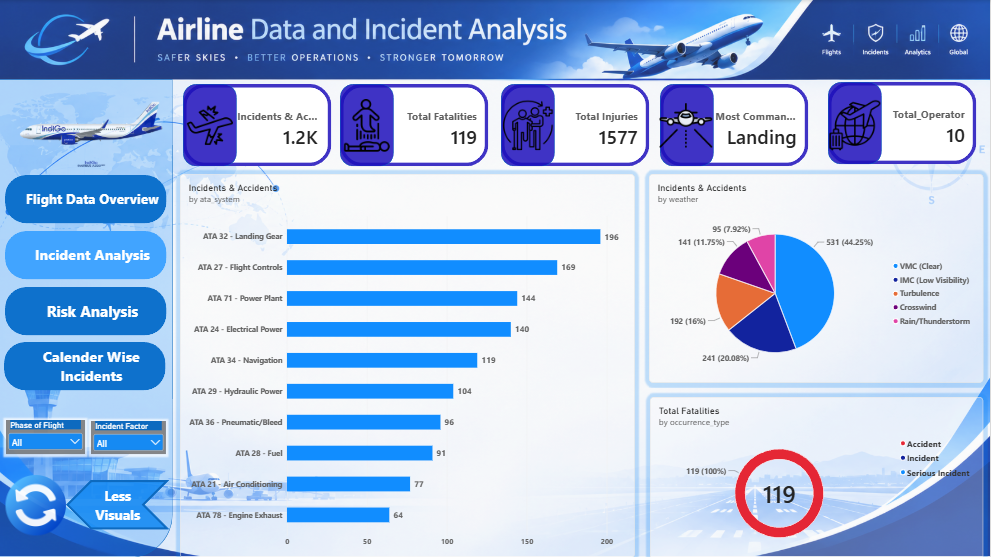

This screenshot's page, from the dashboard's own definition file:
{"tool":"powerbi","page":{"name":"Page 2","canvas":[1920,1080],"ordinal":1},"visuals":[{"type":"shape","box":[0,153.1,338,926.9],"z":0},{"type":"cardVisual","fields":{"Data":["dgca_aviation_incidents_2010_2023.Total_Operator"]},"box":[1606.4,159.6,287,159.4],"z":0,"group":"g1"},{"type":"cardVisual","fields":{"Data":["dgca_aviation_incidents_2010_2023.Total incidents"]},"box":[357.4,161.7,287,159.4],"z":0,"group":"g5"},{"type":"cardVisual","fields":{"Data":["dgca_aviation_incidents_2010_2023.Total Fatalities"]},"box":[661.7,161.7,287,159.4],"z":0,"group":"g4"},{"type":"cardVisual","fields":{"Data":["dgca_aviation_incidents_2010_2023.Total Injuries"]},"box":[974.5,161.7,287,159.4],"z":0,"group":"g3"},{"type":"cardVisual","fields":{"Data":["dgca_aviation_incidents_2010_2023.Most Comman Pharse"]},"box":[1280.9,161.7,287,159.4],"z":0,"group":"g2"},{"type":"shape","box":[1606.4,159.6,104.2,159.4],"z":1000,"group":"g1"},{"type":"group","id":"g1","title":"Group 1","box":[1606.4,159.6,287.2,159.6],"z":1000},{"type":"shape","box":[357.4,161.7,104.2,159.4],"z":1000,"group":"g5"},{"type":"shape","box":[661.7,161.7,104.2,159.4],"z":1000,"group":"g4"},{"type":"shape","box":[974.5,161.7,104.2,159.4],"z":1000,"group":"g3"},{"type":"shape","box":[1280.9,161.7,104.2,159.4],"z":1000,"group":"g2"},{"type":"group","id":"g2","title":"Group 1","box":[1280.9,161.7,287.2,159.6],"z":2000},{"type":"group","id":"g3","title":"Group 1","box":[974.5,161.7,287.2,159.6],"z":3000},{"type":"group","id":"g4","title":"Group 1","box":[661.7,161.7,285.1,159.6],"z":4000},{"type":"group","id":"g5","title":"Group 1","box":[357.4,161.7,285.1,159.6],"z":5000},{"type":"lineChart","fields":{"Category":["dgca_aviation_incidents_2010_2023.date.Variation.Date Hierarchy.Year","dgca_aviation_incidents_2010_2023.date.Variation.Date Hierarchy.Quarter","dgca_aviation_incidents_2010_2023.date.Variation.Date Hierarchy.Month","dgca_aviation_incidents_2010_2023.date.Variation.Date Hierarchy.Day"],"Y":["dgca_aviation_incidents_2010_2023.incidents & Accidents"]},"box":[352.9,338,788.7,361.4],"z":6000},{"type":"clusteredBarChart","fields":{"Category":["dgca_aviation_incidents_2010_2023.operator"],"Y":["dgca_aviation_incidents_2010_2023.incidents & Accidents"]},"box":[1162.9,338,744.1,361.4],"z":7000},{"type":"donutChart","fields":{"Category":["dgca_aviation_incidents_2010_2023.Severity type"],"Y":["dgca_aviation_incidents_2010_2023.incidents & Accidents"]},"box":[1162.9,714.3,744.1,365.7],"z":8000},{"type":"clusteredBarChart","fields":{"Category":["dgca_aviation_incidents_2010_2023.phase_of_flight"],"Y":["dgca_aviation_incidents_2010_2023.incidents & Accidents"]},"box":[352.9,714.3,788.7,365.7],"z":9000},{"type":"image","box":[357.2,191.3,104.2,102],"z":13000},{"type":"image","box":[1607.2,191.3,104.2,102],"z":14000},{"type":"image","box":[1279.8,191.3,104.2,102],"z":15000},{"type":"image","box":[661.2,191.3,104.2,102],"z":16000},{"type":"image","box":[973.7,191.3,104.2,102],"z":17000},{"type":"image","box":[0,172.2,361.4,159.4],"z":18000},{"type":"slicer","fields":{"Values":["dgca_aviation_incidents_2010_2023.year"]},"box":[180.7,814.3,144.6,63.8],"z":19000},{"type":"slicer","fields":{"Values":["dgca_aviation_incidents_2010_2023.airport"]},"box":[14.9,812.1,153.1,65.9],"z":20000},{"type":"image","box":[12.8,918.4,119.1,116.9],"z":21000},{"type":"actionButton","box":[12.8,338,312.5,93.5],"z":23000},{"type":"actionButton","box":[12.8,554.9,312.5,93.5],"z":24000},{"type":"actionButton","box":[12,662,312.5,93.5],"z":25000},{"type":"shape","box":[138.2,929.1,199.8,95.7],"z":26000},{"type":"actionButton","box":[13.4,446.4,312.5,93.5],"z":28000}]}

Visuals, with their boxes in screenshot pixels (x1, y1, x2, y2), scaled from the page's 1920x1080 canvas onto the 991x557 screenshot:
shape: bbox=[0, 79, 174, 556]
cardVisual - dgca_aviation_incidents_2010_2023.Total_Operator: bbox=[829, 82, 977, 165]
cardVisual - dgca_aviation_incidents_2010_2023.Total incidents: bbox=[184, 83, 333, 166]
cardVisual - dgca_aviation_incidents_2010_2023.Total Fatalities: bbox=[342, 83, 490, 166]
cardVisual - dgca_aviation_incidents_2010_2023.Total Injuries: bbox=[503, 83, 651, 166]
cardVisual - dgca_aviation_incidents_2010_2023.Most Comman Pharse: bbox=[661, 83, 809, 166]
shape: bbox=[829, 82, 883, 165]
"Group 1" group: bbox=[829, 82, 977, 165]
shape: bbox=[184, 83, 238, 166]
shape: bbox=[342, 83, 395, 166]
shape: bbox=[503, 83, 557, 166]
shape: bbox=[661, 83, 715, 166]
"Group 1" group: bbox=[661, 83, 809, 166]
"Group 1" group: bbox=[503, 83, 651, 166]
"Group 1" group: bbox=[342, 83, 489, 166]
"Group 1" group: bbox=[184, 83, 332, 166]
lineChart - dgca_aviation_incidents_2010_2023.date.Variation.Date Hierarchy.Year x dgca_aviation_incidents_2010_2023.date.Variation.Date Hierarchy.Quarter: bbox=[182, 174, 589, 361]
clusteredBarChart - dgca_aviation_incidents_2010_2023.operator x dgca_aviation_incidents_2010_2023.incidents & Accidents: bbox=[600, 174, 984, 361]
donutChart - dgca_aviation_incidents_2010_2023.Severity type x dgca_aviation_incidents_2010_2023.incidents & Accidents: bbox=[600, 368, 984, 556]
clusteredBarChart - dgca_aviation_incidents_2010_2023.phase_of_flight x dgca_aviation_incidents_2010_2023.incidents & Accidents: bbox=[182, 368, 589, 556]
image: bbox=[184, 99, 238, 151]
image: bbox=[830, 99, 883, 151]
image: bbox=[661, 99, 714, 151]
image: bbox=[341, 99, 395, 151]
image: bbox=[503, 99, 556, 151]
image: bbox=[0, 89, 187, 171]
slicer - dgca_aviation_incidents_2010_2023.year: bbox=[93, 420, 168, 453]
slicer - dgca_aviation_incidents_2010_2023.airport: bbox=[8, 419, 87, 453]
image: bbox=[7, 474, 68, 534]
actionButton: bbox=[7, 174, 168, 223]
actionButton: bbox=[7, 286, 168, 334]
actionButton: bbox=[6, 341, 167, 390]
shape: bbox=[71, 479, 174, 529]
actionButton: bbox=[7, 230, 168, 278]
